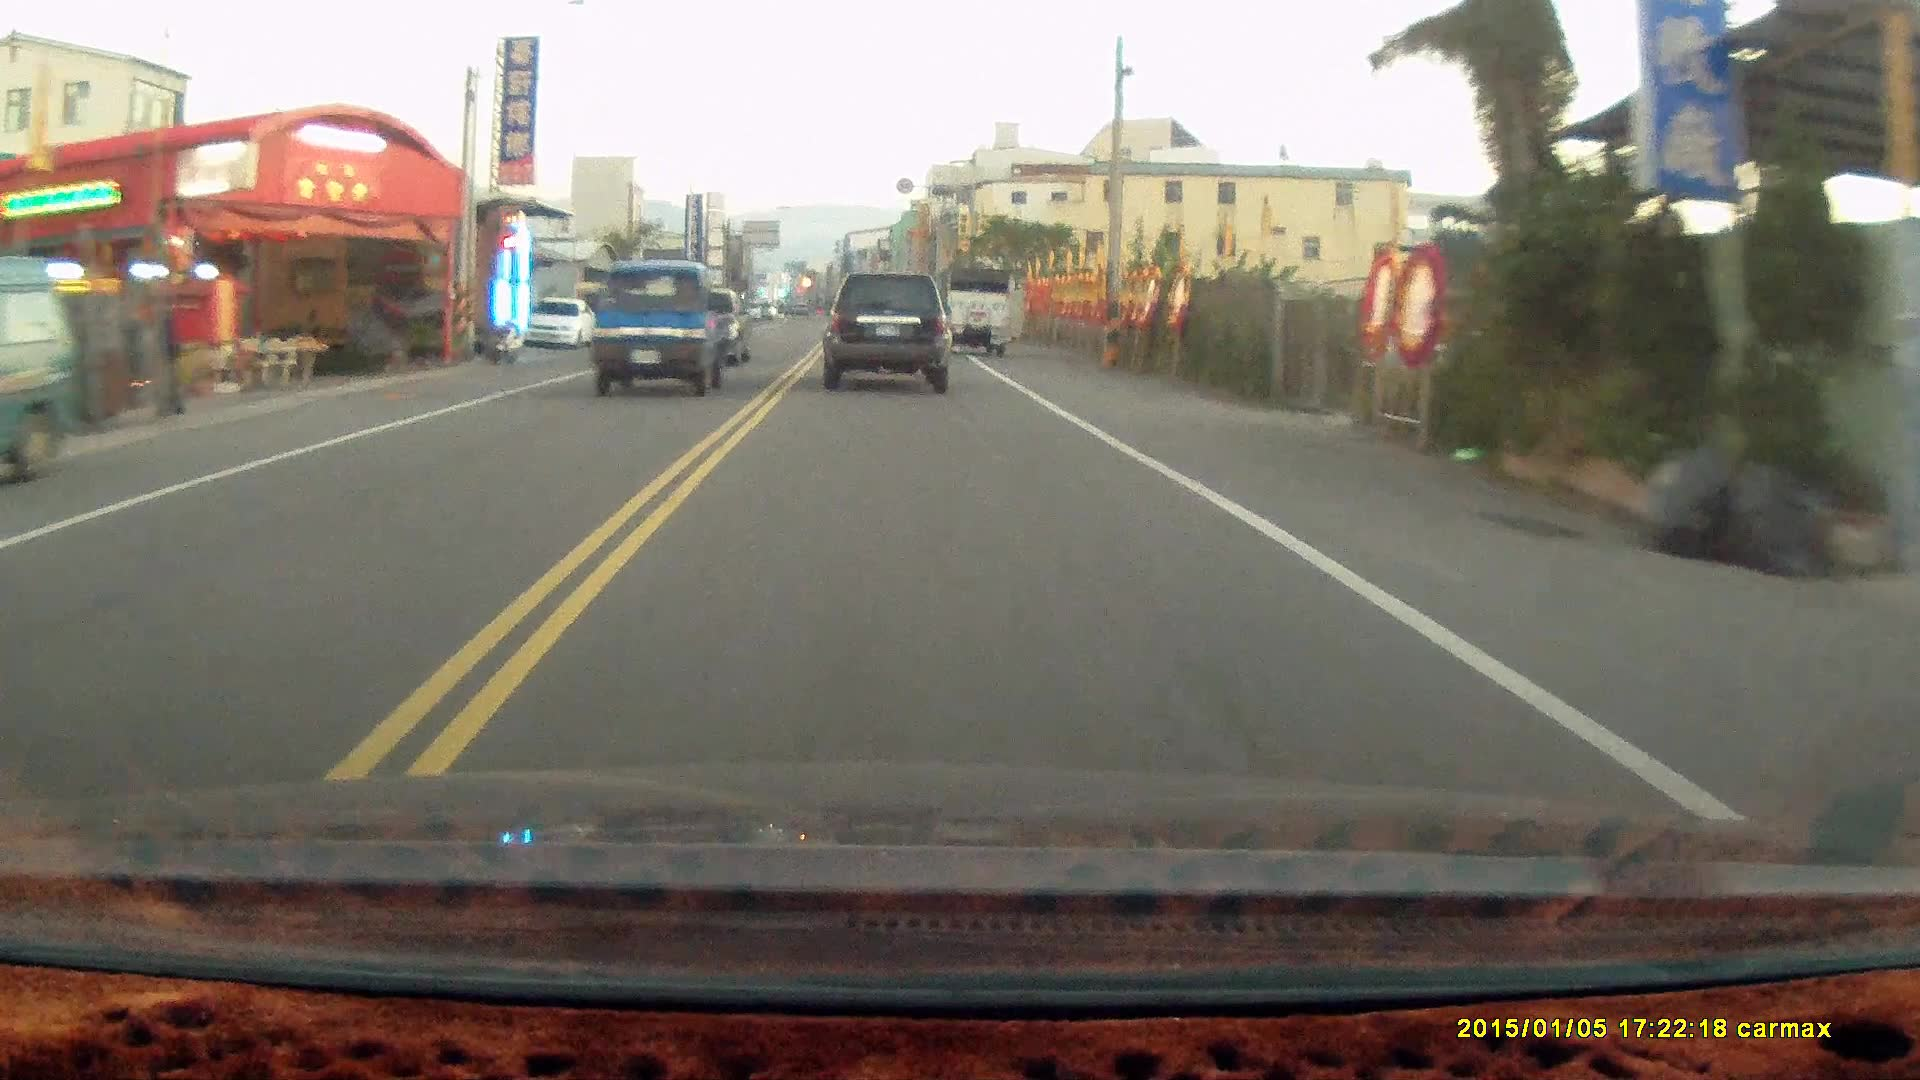vehicle: (585, 262, 752, 398), (1, 256, 84, 487), (825, 265, 961, 392), (938, 264, 1017, 359), (530, 297, 595, 352)
